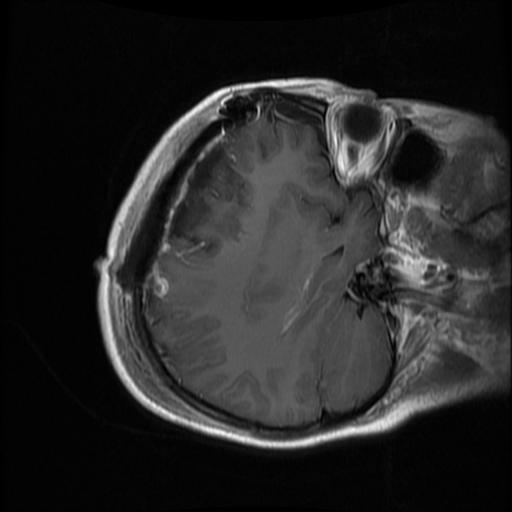glioma: (170, 146, 247, 257)
